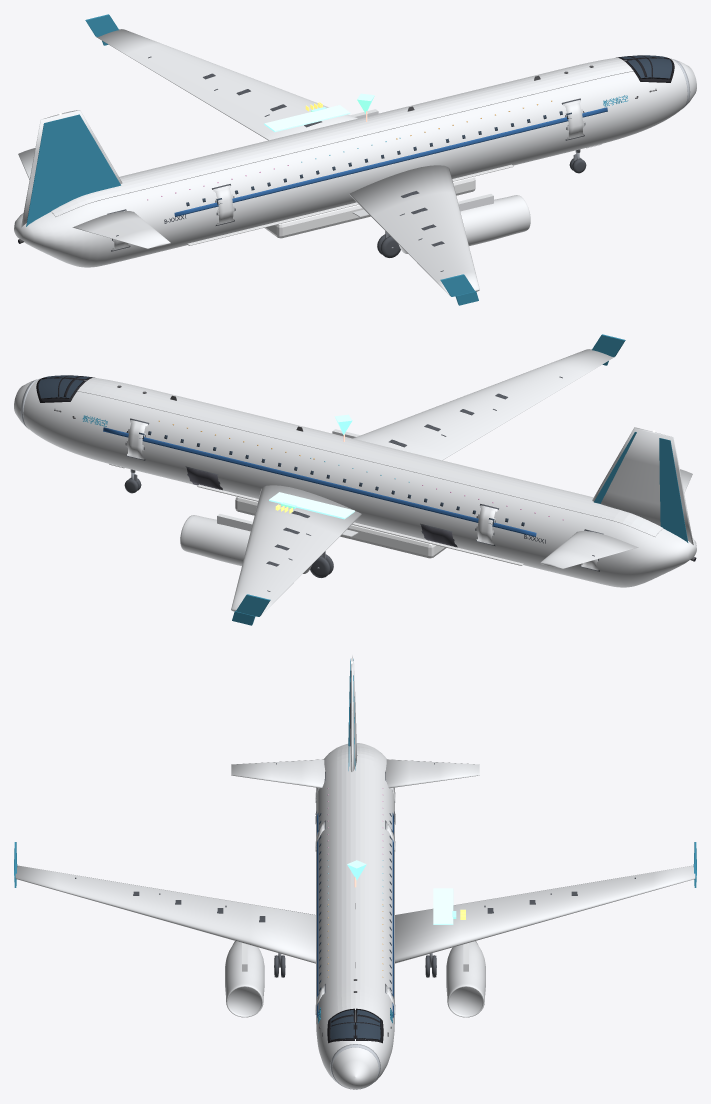
File: teach_model.glb
The picture shows the model from 3 angles, top to bottom: view 1: azimuth 30°, elevation 25°; view 2: azimuth 150°, elevation 25°; view 3: azimuth 270°, elevation 25°; orthographic projection. The views are drawn at different scales.
Visible parts, largest first — view 1: Plane_Fuselage, Shell_Upper, Plane_Wing_L, Plane_Wing_R, LogoTail_L, Plane_Nose, Plane_TailCone, E_L, Stripe_-1, Plane_HS_L, BellyFairing, Plane_VStab (+6 smaller); view 2: Plane_Fuselage, Shell_Upper, Plane_Wing_L, Plane_Wing_R, Plane_Nose, Plane_VStab, Plane_TailCone, E_R, LogoTail_R, Stripe_1, Plane_HS_R, BellyFairing (+8 smaller); view 3: Plane_Wing_L, Shell_Upper, Plane_Wing_R, Plane_Fuselage, Plane_Nose, E_L, E_R, Plane_HS_L, Plane_HS_R, MACBar.
Boxes of the visible parts, x1,y1,x2,y2 form: Plane_Fuselage: (109, 83, 590, 263); Shell_Upper: (51, 57, 633, 216); Plane_Wing_L: (349, 165, 479, 296); Plane_Wing_R: (96, 29, 357, 140); LogoTail_L: (26, 114, 120, 226); Plane_Nose: (579, 58, 696, 148); Plane_TailCone: (14, 198, 119, 267); E_L: (398, 195, 530, 253); Stripe_-1: (174, 107, 607, 216); Plane_HS_L: (72, 211, 170, 248); BellyFairing: (264, 176, 475, 238); Plane_VStab: (21, 110, 122, 227); Plane_Fuselage: (120, 403, 601, 583); Shell_Upper: (77, 377, 663, 536); Plane_Wing_L: (353, 349, 614, 460); Plane_Wing_R: (231, 485, 361, 616); Plane_Nose: (14, 378, 131, 468); Plane_VStab: (592, 427, 693, 544); Plane_TailCone: (591, 518, 696, 587); E_R: (180, 515, 312, 573); LogoTail_R: (594, 432, 688, 542); Stripe_1: (103, 427, 536, 536); Plane_HS_R: (540, 531, 638, 568); BellyFairing: (235, 496, 446, 558); Plane_Wing_L: (15, 865, 315, 963); Shell_Upper: (337, 746, 373, 1039); Plane_Wing_R: (395, 865, 695, 963); Plane_Fuselage: (316, 767, 394, 1017); Plane_Nose: (316, 987, 394, 1089); E_L: (225, 941, 264, 1017); E_R: (446, 941, 485, 1017); Plane_HS_L: (231, 759, 325, 788); Plane_HS_R: (385, 759, 479, 788); MACBar: (433, 888, 453, 924).
Bounding box in the file's own units: 37.65 × 9.91 × 34.26.
